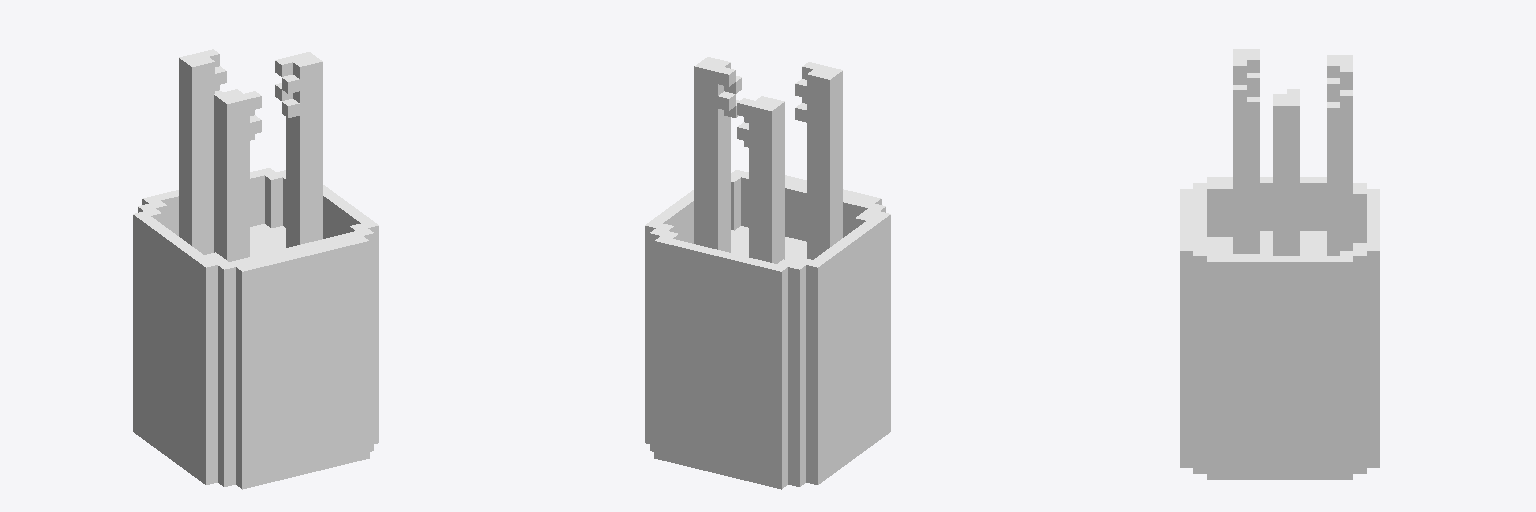
File: Brushers.obj
3 views of the same model, side by side, from view 1: azimuth 30°, elevation 25°; view 2: azimuth 150°, elevation 25°; view 3: azimuth 270°, elevation 25° (orthographic).
Parts seen in each view (by area): view 1: object 1; view 2: object 1; view 3: object 1.
Part boxes in pixels (x1,y1,x2,y2): object 1: (133,49,378,489); object 1: (645,57,890,489); object 1: (1180,49,1379,479).
Bounding box in the file's own units: 1.5 × 3 × 1.5.